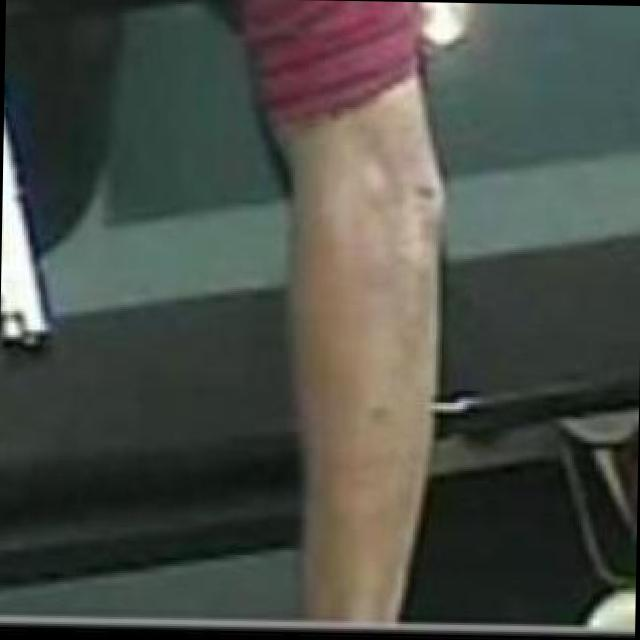Guns: (0, 14, 159, 377)
